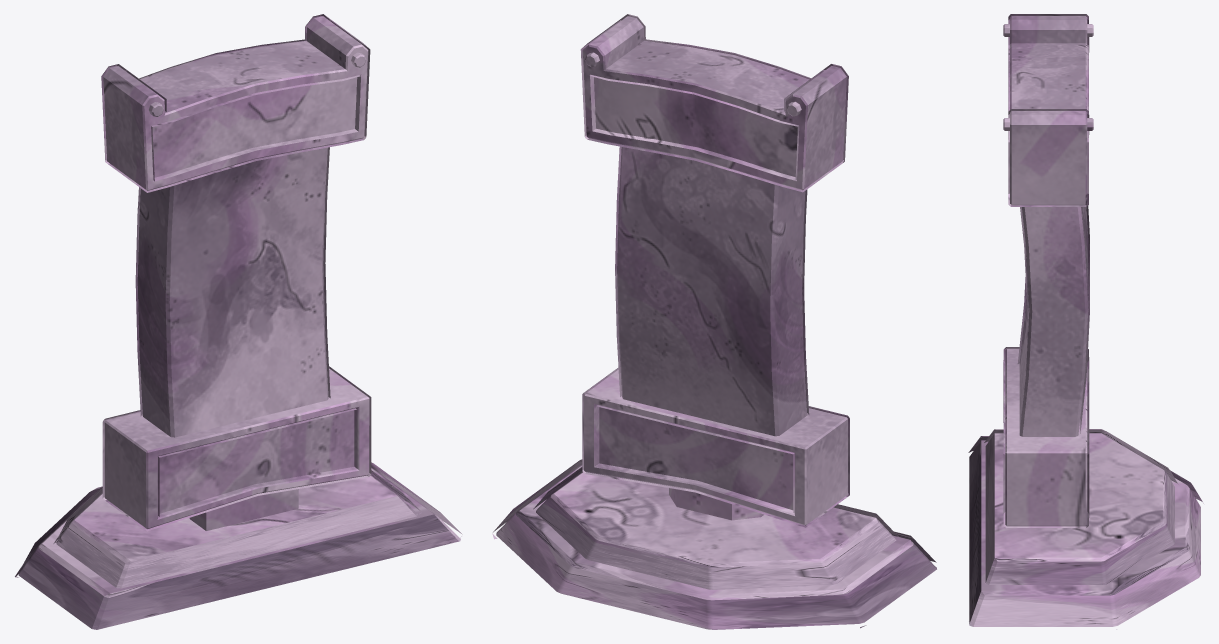
Rendered from s0_Signal_02__1__01.glb.
3 views of the same model, side by side, from view 1: azimuth 30°, elevation 25°; view 2: azimuth 150°, elevation 25°; view 3: azimuth 270°, elevation 25° (orthographic). The views are drawn at different scales.
Parts seen in each view (by area): view 1: node_Signal_02 (1); view 2: node_Signal_02 (1); view 3: node_Signal_02 (1).
Boxes of the visible parts, x1,y1,x2,y2 form: node_Signal_02 (1): (15,14,462,629); node_Signal_02 (1): (492,14,936,629); node_Signal_02 (1): (968,14,1203,629).
Size of what is drawn, in the model's own units: 2.98 by 3.81 by 1.7.
Materials: 1 (1 with a texture image).
